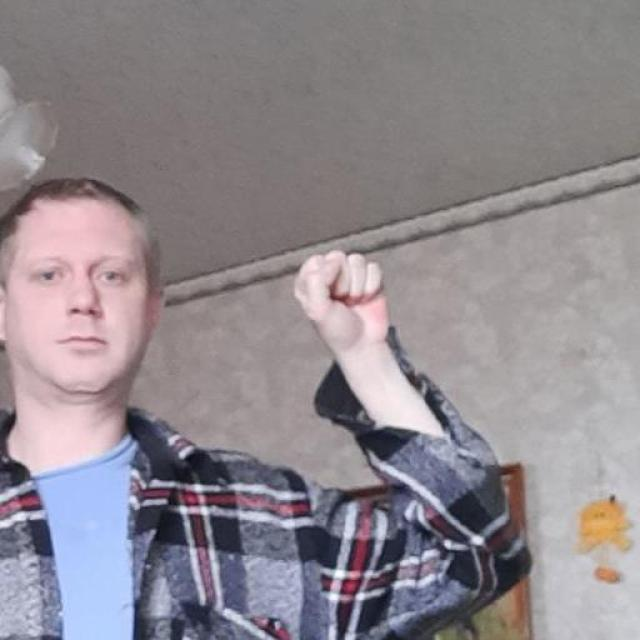hand: (292, 247, 390, 355)
